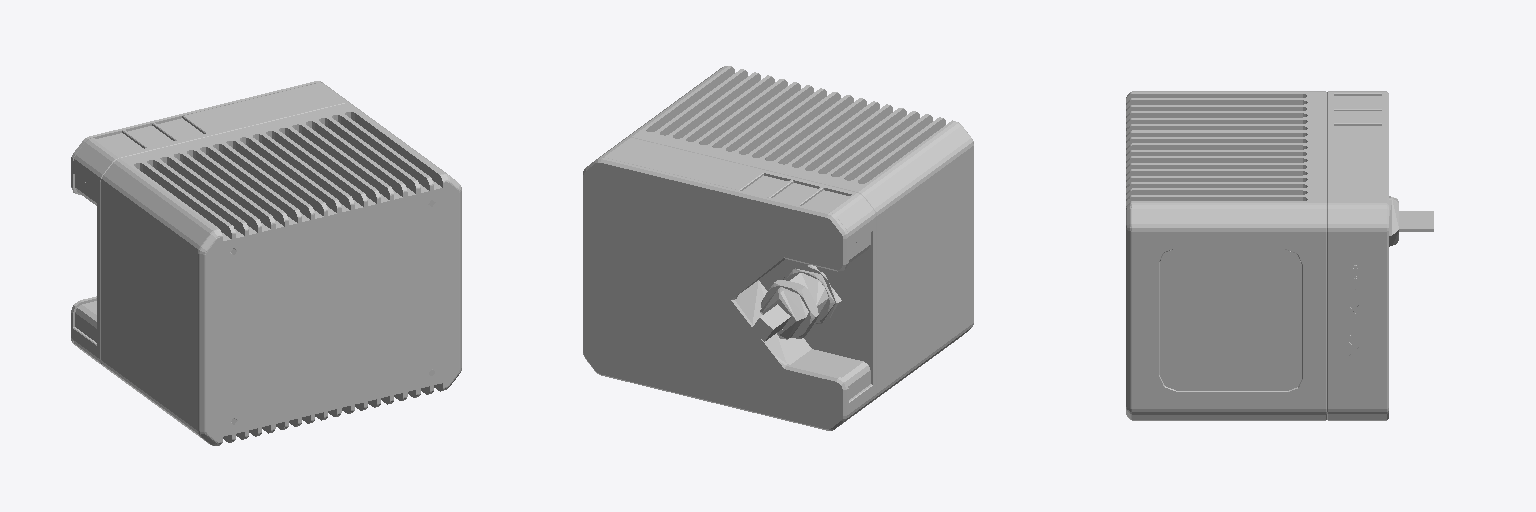
The model's file is mid40.obj.
The picture shows the model from 3 angles: view 1: azimuth 30°, elevation 25°; view 2: azimuth 150°, elevation 25°; view 3: azimuth 270°, elevation 25°; orthographic projection.
Visible parts, largest first — view 1: 1, 219; view 2: 1, 215; view 3: 1, 216, 215, 218.
Part boxes in pixels (bbox=[...]): 1: bbox=[71, 81, 461, 445]; 219: bbox=[236, 388, 433, 439]; 1: bbox=[583, 66, 973, 430]; 215: bbox=[751, 245, 870, 413]; 1: bbox=[1126, 91, 1388, 420]; 216: bbox=[1160, 249, 1301, 377]; 215: bbox=[1130, 196, 1433, 420]; 218: bbox=[1160, 375, 1301, 390].
Size of the model in its own units: 88 by 69 by 88.9.